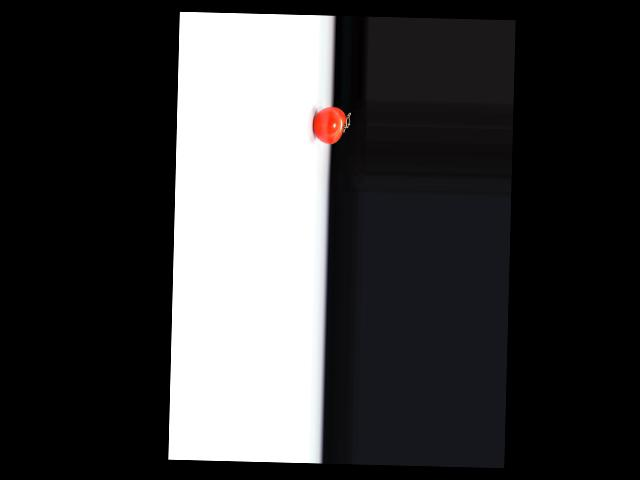tomato: (312, 106, 346, 145)
